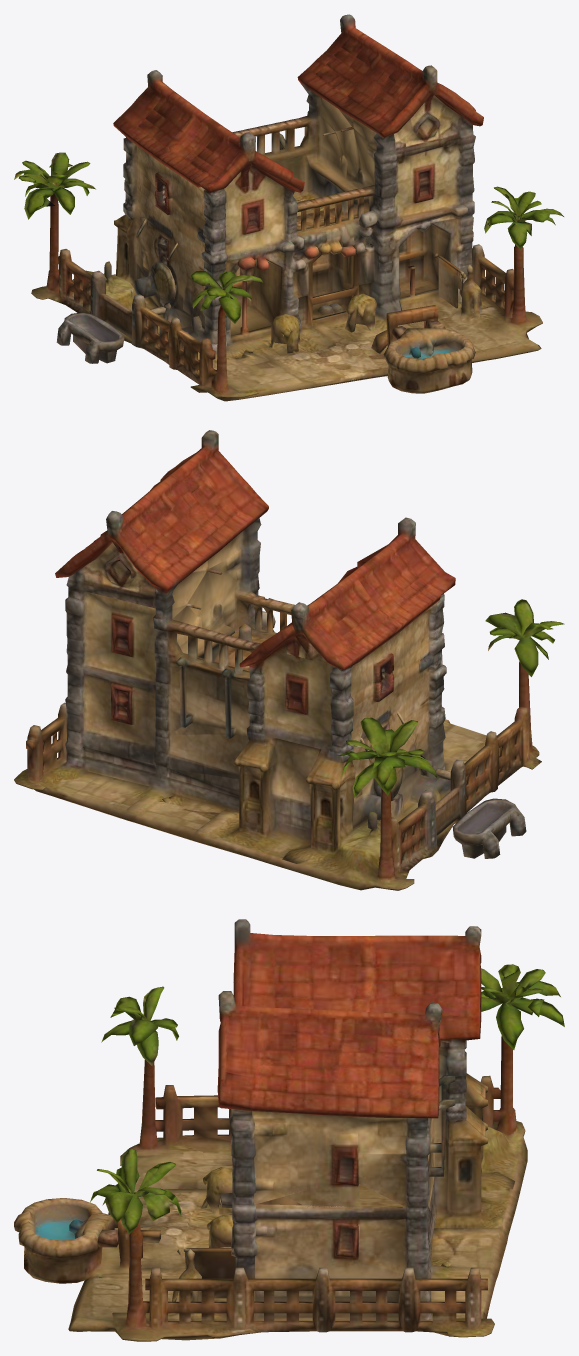
Rendered from establo_tripo_2.glb.
3 renders of one model, top to bottom at view 1: azimuth 30°, elevation 25°; view 2: azimuth 150°, elevation 25°; view 3: azimuth 270°, elevation 25°, orthographic. The views are drawn at different scales.
Visible parts, largest first — view 1: tripo_node_83770c47-92ad-4045-94be-3b1eb194dadb; view 2: tripo_node_83770c47-92ad-4045-94be-3b1eb194dadb; view 3: tripo_node_83770c47-92ad-4045-94be-3b1eb194dadb.
Part boxes in pixels (x1,y1,x2,y2): tripo_node_83770c47-92ad-4045-94be-3b1eb194dadb: (14,14,563,401); tripo_node_83770c47-92ad-4045-94be-3b1eb194dadb: (14,430,564,890); tripo_node_83770c47-92ad-4045-94be-3b1eb194dadb: (14,919,564,1341).
Size of the model in its own units: 0.9818 by 0.586 by 0.9356.
Materials: 1 (1 with a texture image).
